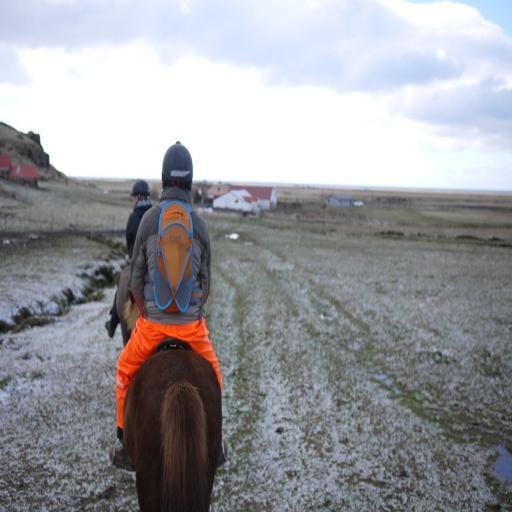Horse: (121, 350, 223, 511), (113, 266, 131, 347)
